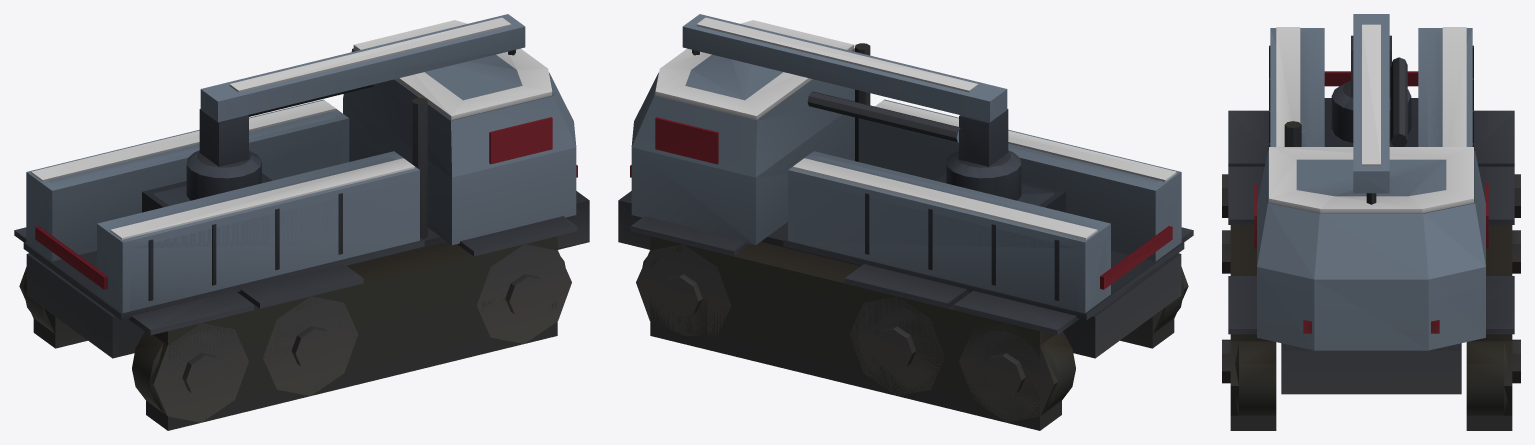
Rendered from veyran_repair_truck.glb.
3 views of the same model, side by side, from view 1: azimuth 30°, elevation 25°; view 2: azimuth 150°, elevation 25°; view 3: azimuth 270°, elevation 25° (orthographic). The views are drawn at different scales.
Visible parts, largest first — view 1: hull (×3); view 2: hull (×3); view 3: hull (×3).
Part boxes in pixels (x1,y1,x2,y2): hull (×3): (14, 14, 589, 430); hull (×3): (618, 14, 1193, 430); hull (×3): (1222, 14, 1520, 430).
Size of the model in its own units: 4.8 by 2.52 by 2.48.
